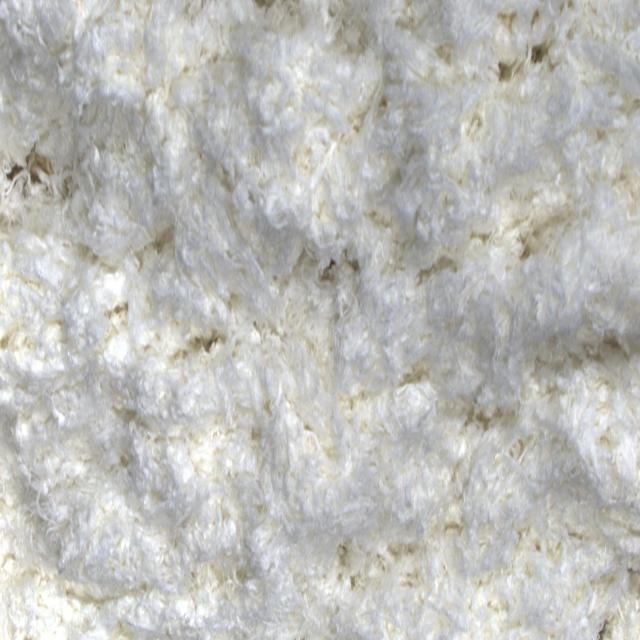dust: (4, 157, 57, 192), (527, 41, 551, 64)
